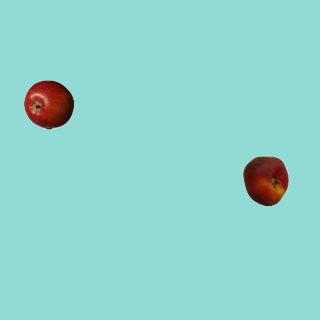Apple Braeburn: (23, 79, 73, 129)
Nectarine Flat: (240, 155, 290, 205)
